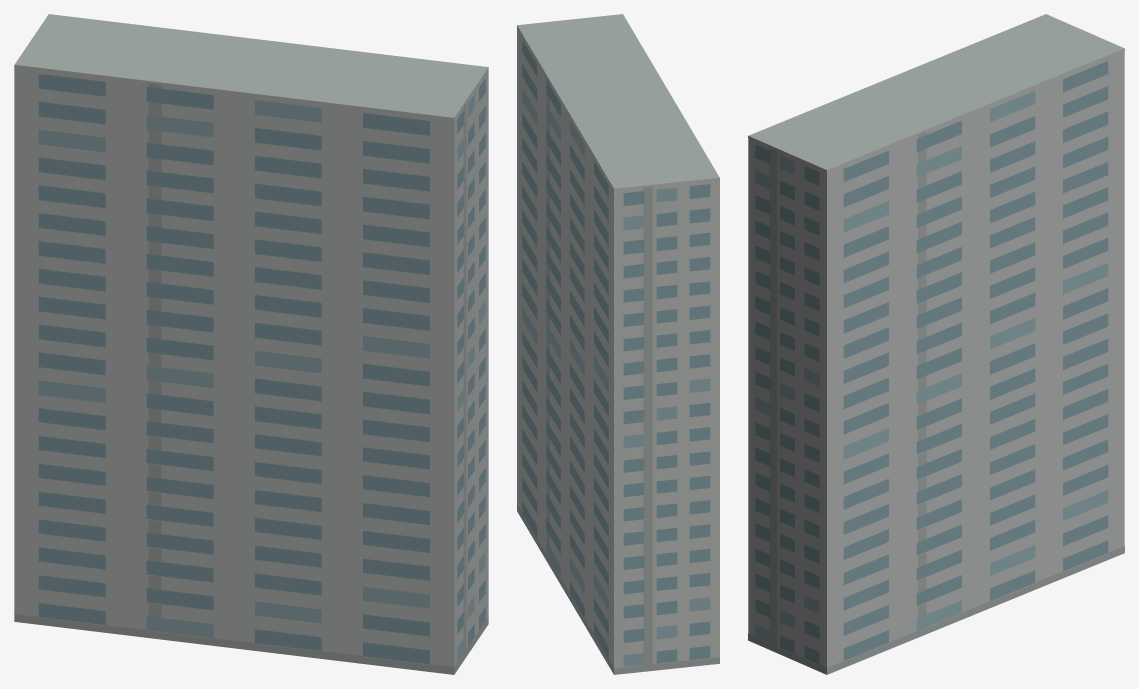
File: residential-281569fc-445f-4cf2-a8b5-758f7c2f9e3a.glb
The picture shows the model from 3 angles, left to right: view 1: azimuth 30°, elevation 25°; view 2: azimuth 150°, elevation 25°; view 3: azimuth 270°, elevation 25°; orthographic projection. The views are drawn at different scales.
Visible parts, largest first — view 1: residential-281569fc-445f-4cf2-a8b5-758f7c2f9e3a.tmp; view 2: residential-281569fc-445f-4cf2-a8b5-758f7c2f9e3a.tmp; view 3: residential-281569fc-445f-4cf2-a8b5-758f7c2f9e3a.tmp.
Boxes of the visible parts, <box> form: residential-281569fc-445f-4cf2-a8b5-758f7c2f9e3a.tmp: <box>14,14,488,674</box>; residential-281569fc-445f-4cf2-a8b5-758f7c2f9e3a.tmp: <box>517,14,719,674</box>; residential-281569fc-445f-4cf2-a8b5-758f7c2f9e3a.tmp: <box>748,14,1124,674</box>.
Size of the model in its own units: 35.84 by 54 by 36.52.
